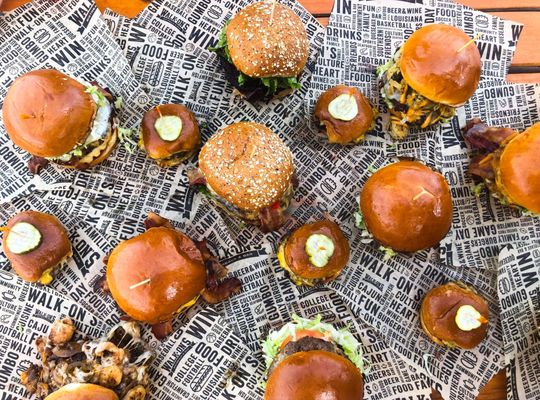salad: (105, 226, 207, 324), (197, 121, 295, 216), (2, 67, 98, 160), (359, 160, 453, 254), (398, 22, 482, 107), (225, 0, 310, 79), (1, 209, 72, 284), (278, 216, 351, 285), (419, 282, 491, 351), (263, 351, 364, 400), (495, 119, 540, 216), (140, 103, 202, 167), (313, 84, 376, 145)
